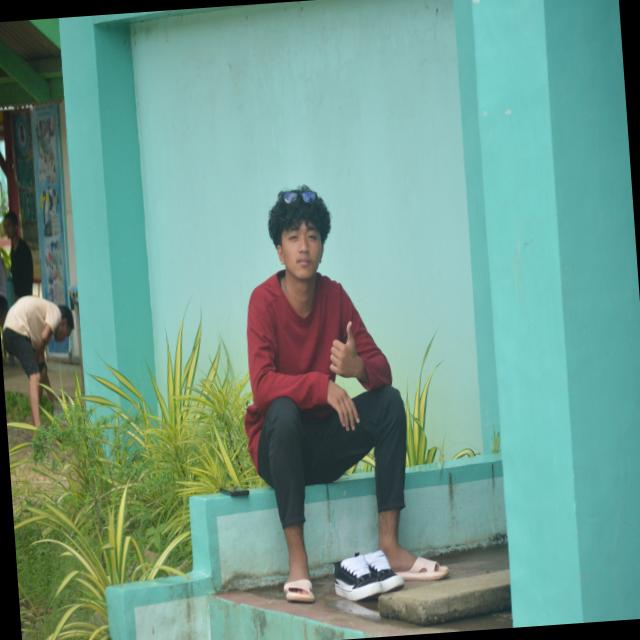person: (244, 186, 419, 601), (2, 297, 72, 427), (3, 212, 33, 301)
